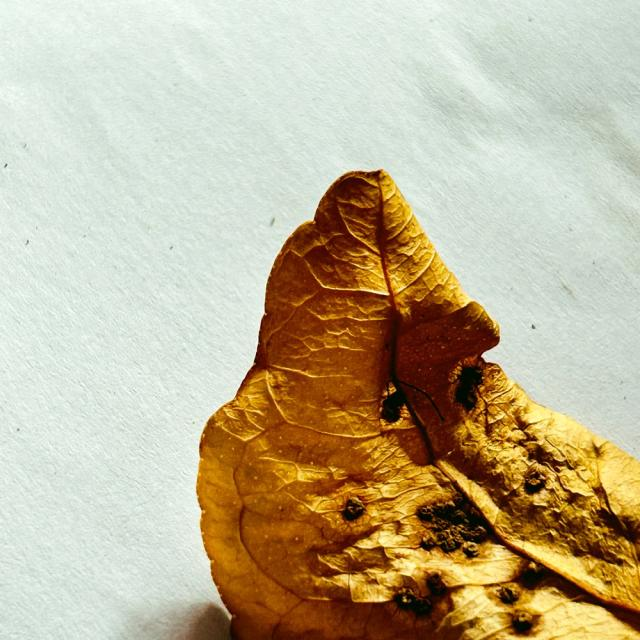DryLeaf_Lemon: (196, 171, 639, 639)
